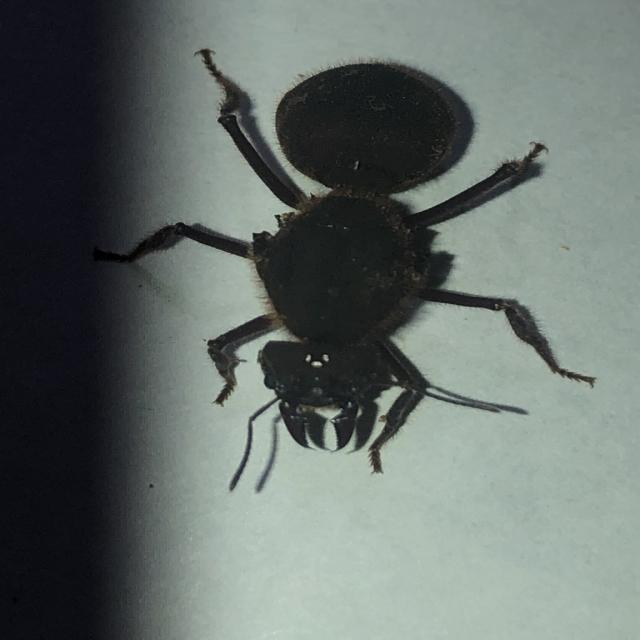Alive-Female-Dealate: (91, 46, 599, 493)
